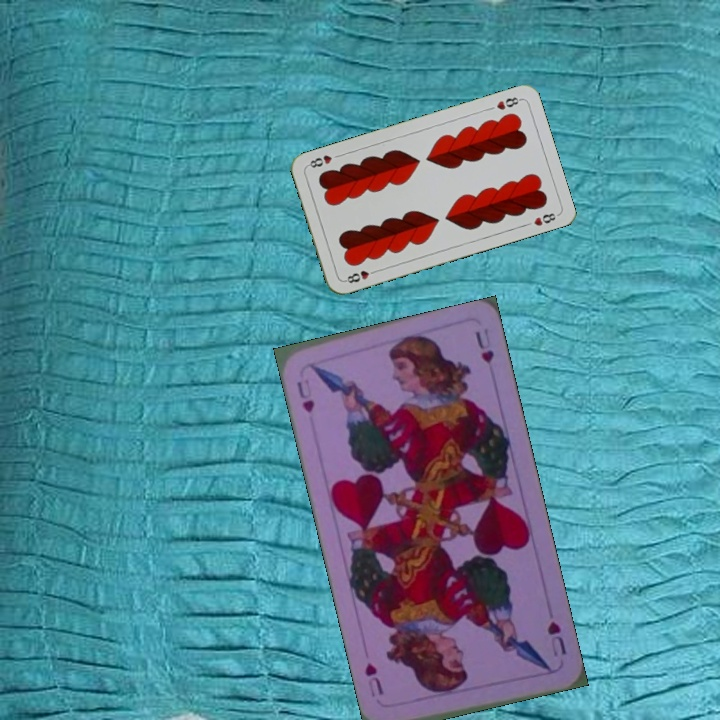H8: (340, 266, 380, 286), (492, 93, 524, 112)
HU: (543, 618, 569, 660), (292, 375, 317, 416)
